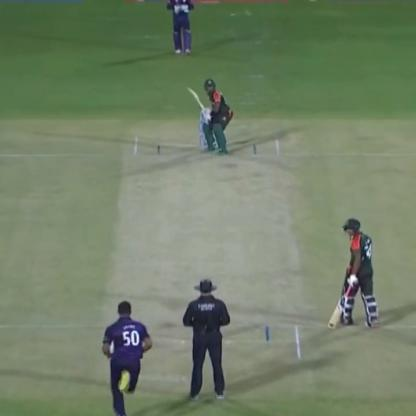pitch: (101, 129, 315, 368)
